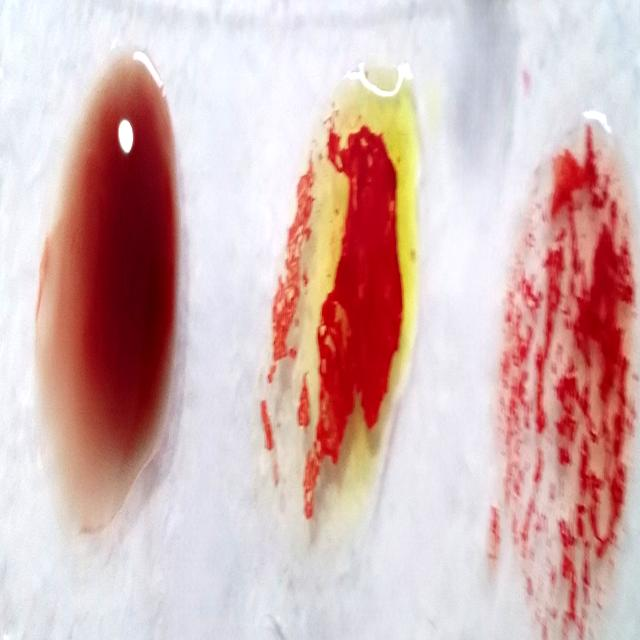B: (262, 77, 415, 537)
D: (508, 104, 637, 640)
